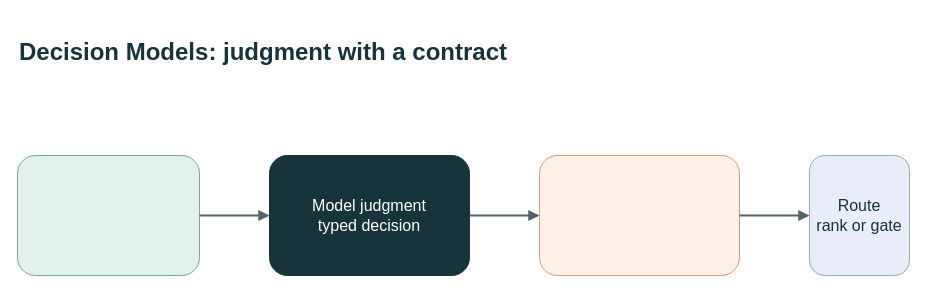
The diagram is 927 pixels wide and 293 high, and some of its shapes have lost their labels. The centre of each missing label's shape, as x and y in pixels:
Evidence request + criteria: point 108,215
Validate schema + thresholds safe fallback: point 639,215
